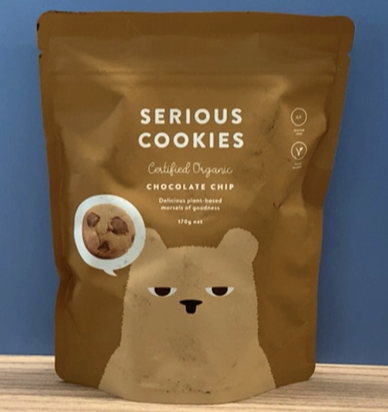cookies_150g: (76, 103, 312, 370)
